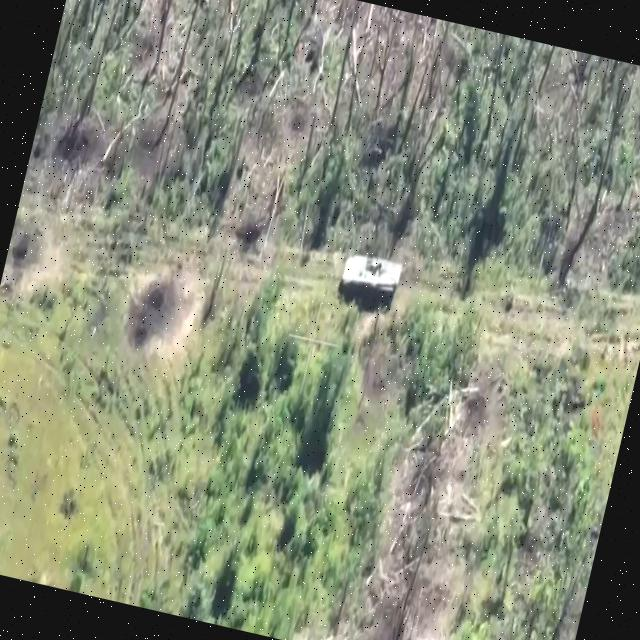AIFV: (336, 249, 405, 312)
